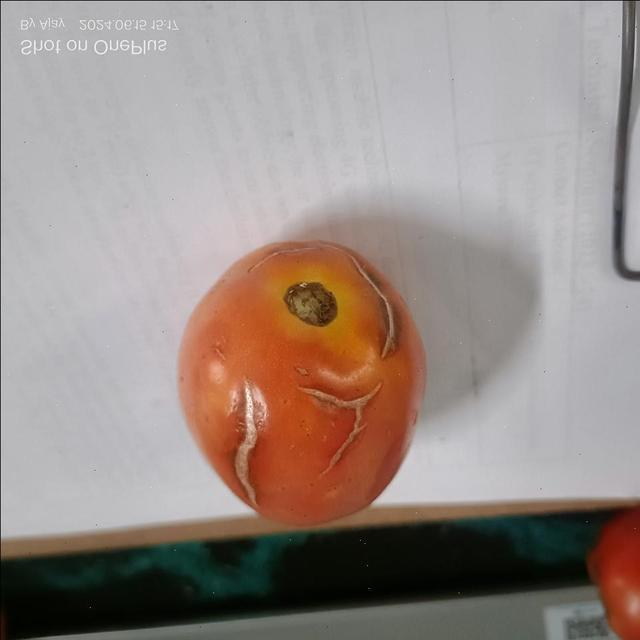Cracking Fruit: (156, 231, 267, 320)
